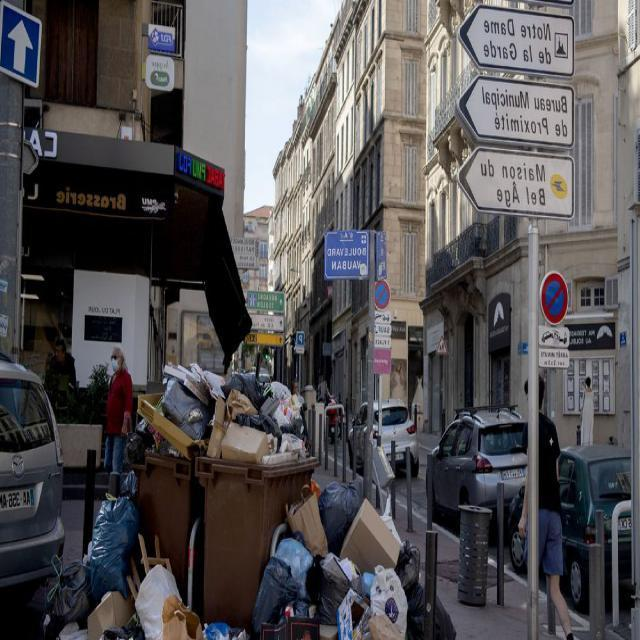Trashbag: (76, 492, 136, 612), (302, 554, 360, 620), (398, 578, 456, 640), (310, 478, 358, 543), (217, 368, 271, 405)
